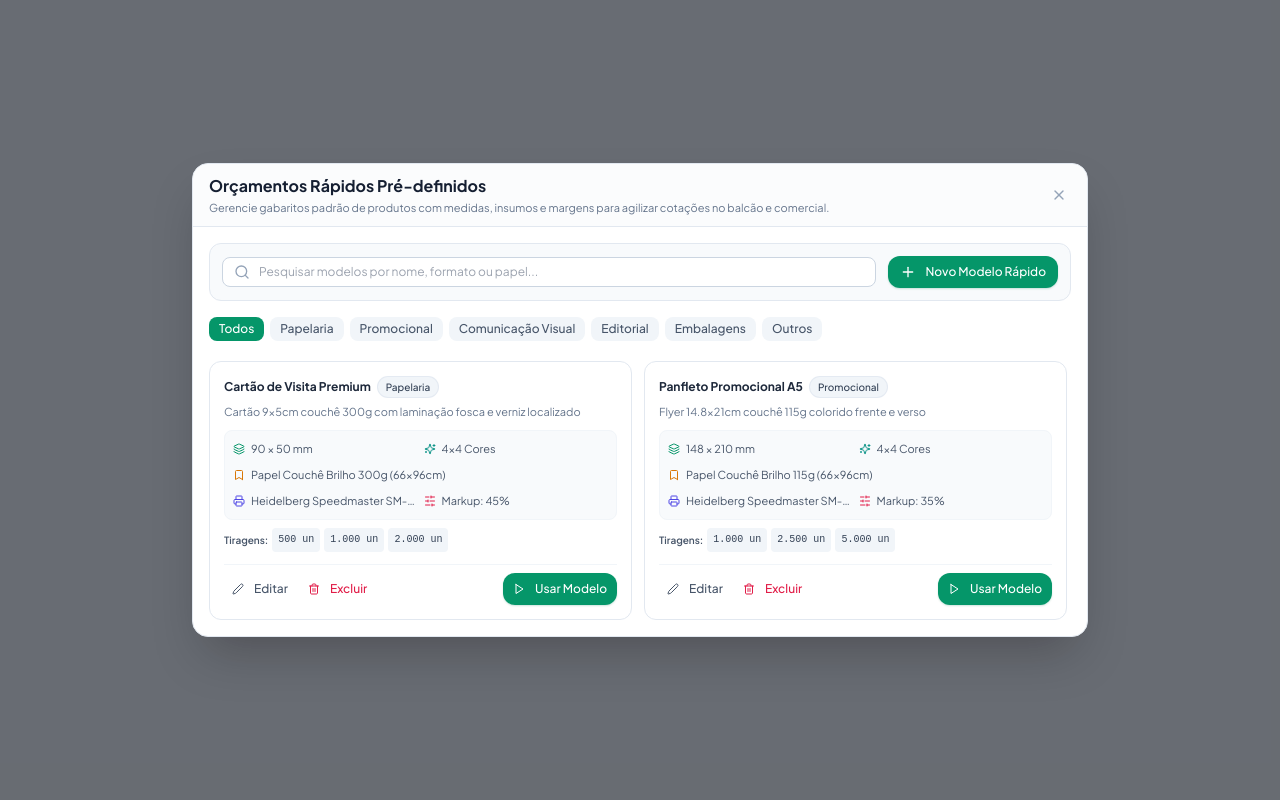
QuickQuotesTemplatesModal › filters templates by category pill
Expected: the heading "Cartão de Visita Premium" is shown, left=224, top=379, right=371, bottom=395
Click the button "Promocional".
click(396, 329)  # box left=350, top=317, right=443, bottom=341
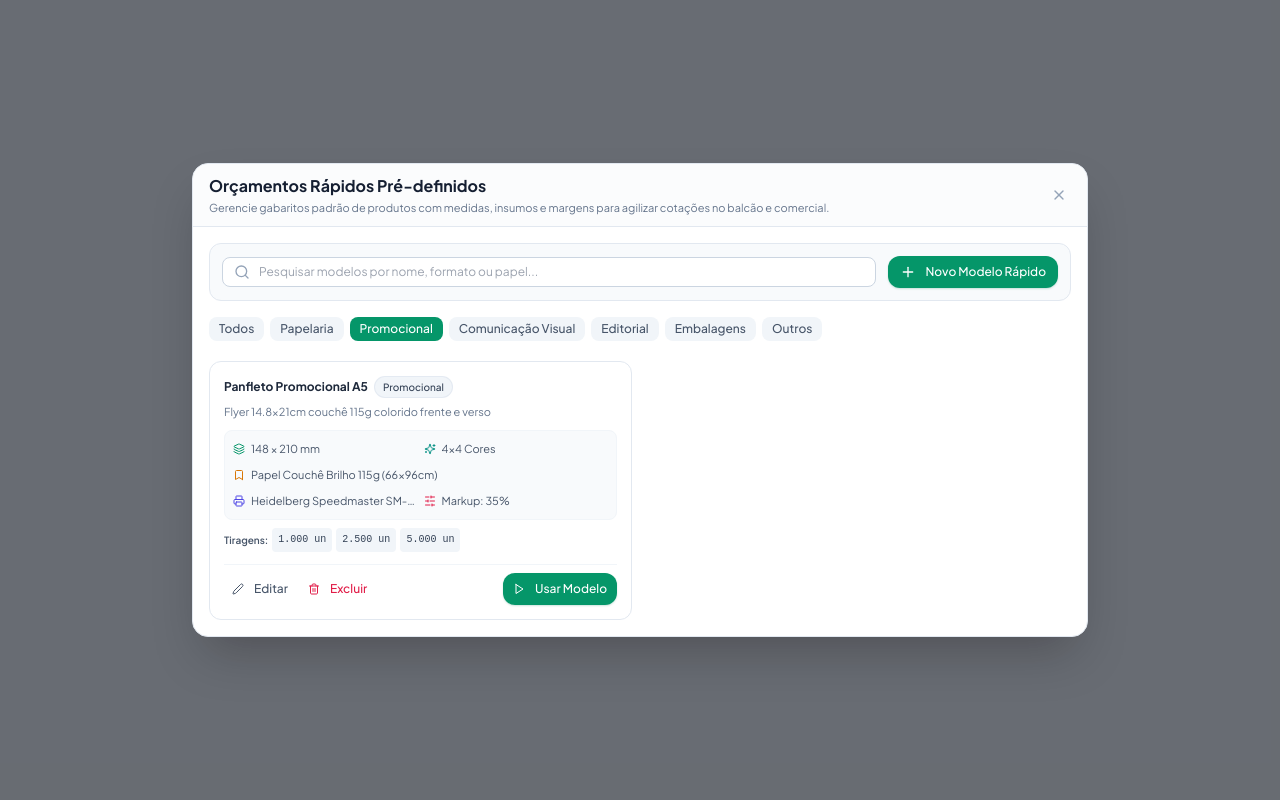
Expected: the heading "Panfleto Promocional A5" is shown, left=224, top=379, right=368, bottom=395
Expected: the heading "Cartão de Visita Premium" is gone
